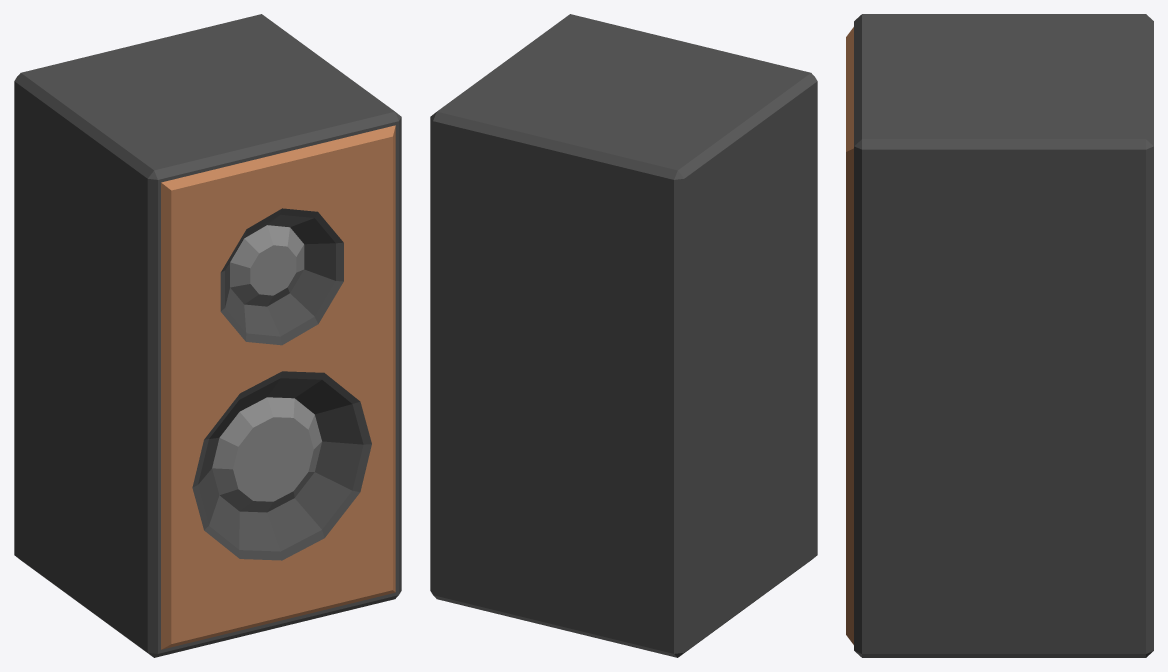
The model's file is Speaker.glb.
The picture shows the model from 3 angles, left to right: view 1: azimuth 30°, elevation 25°; view 2: azimuth 150°, elevation 25°; view 3: azimuth 270°, elevation 25°; orthographic projection. The views are drawn at different scales.
Parts seen in each view (by area): view 1: Speaker; view 2: Speaker; view 3: Speaker.
Part boxes in pixels (x1,y1,x2,y2): Speaker: [14, 14, 401, 657]; Speaker: [430, 14, 817, 657]; Speaker: [846, 14, 1153, 657].
Size of the model in its own units: 0.1576 by 0.2891 by 0.1555.
